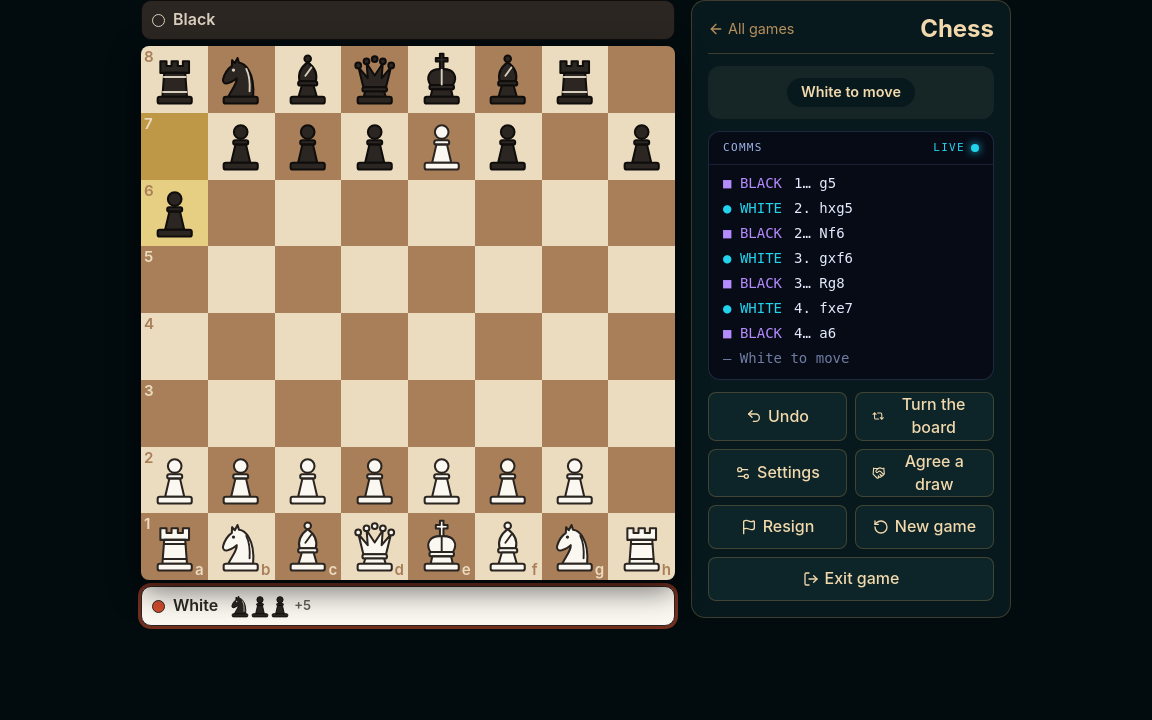
ChessPage › asks what a pawn becomes
This screenshot has width=1152, height=720.
(page scrolled)
Step 1. Click the button named "e7, White pawn" → (441, 146), box [408,113,475,180]
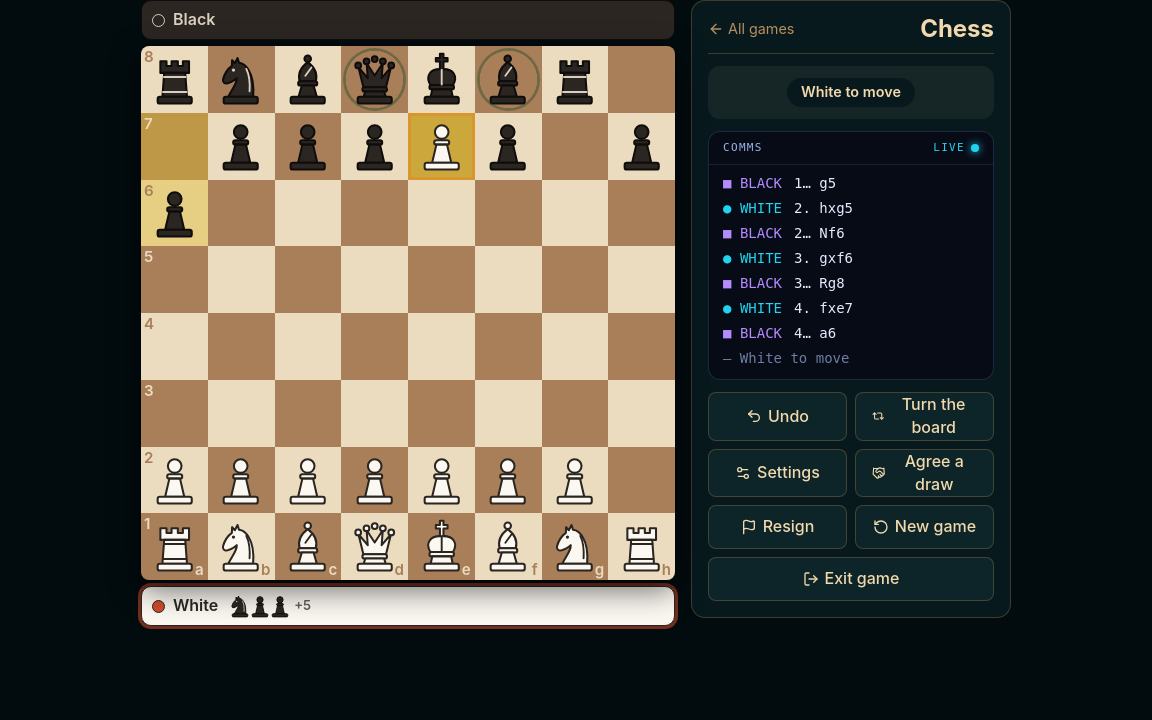
Step 2. Click the button named "f8, Black bishop" → (508, 79), box [475,46,542,113]
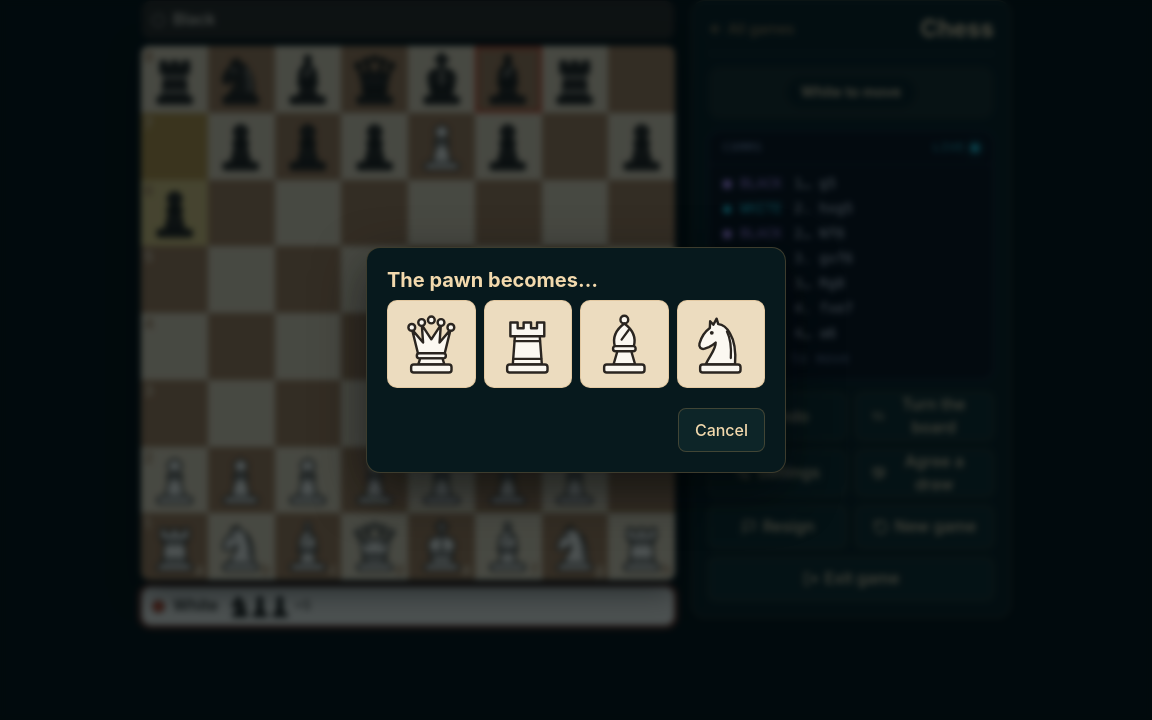
Step 3. Click the button named "White knight" → (721, 344), box [676,300,765,388]
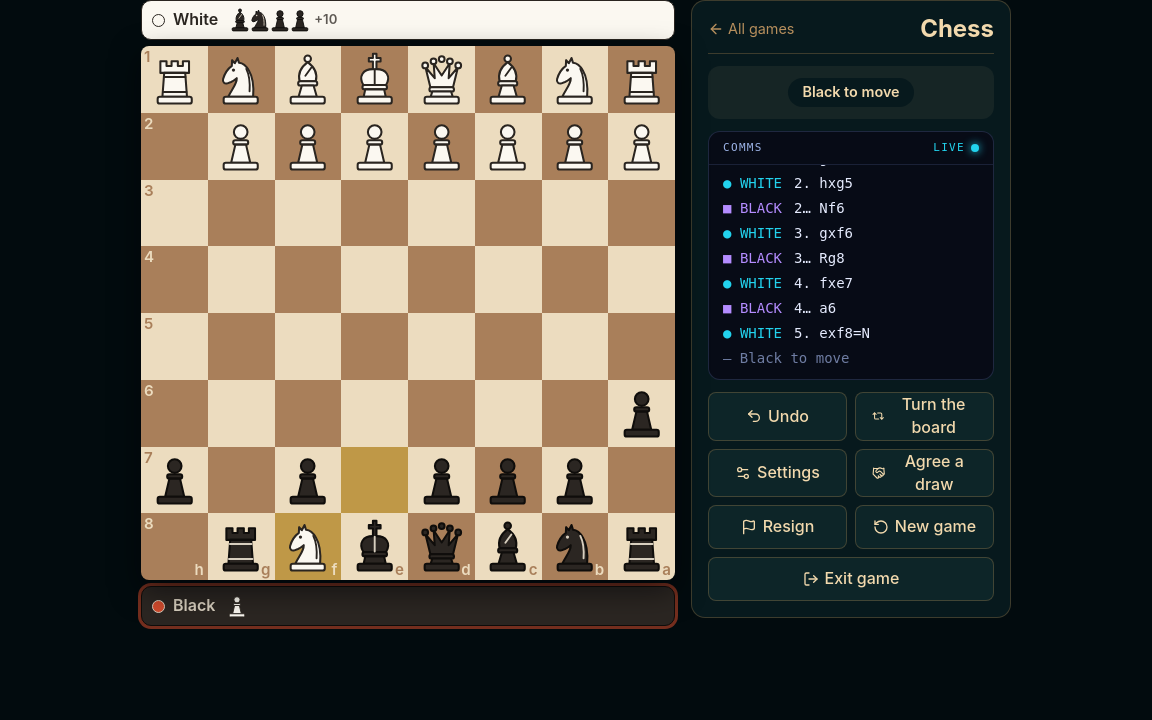
expect the element that starts with "White" shows "5. exf8=N": met, box [794,325,870,341]
